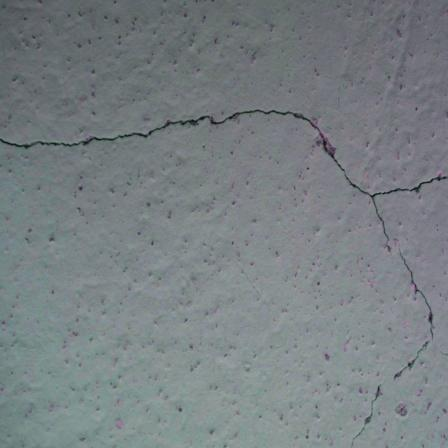crack: (0, 61, 448, 264), (275, 237, 448, 448)
